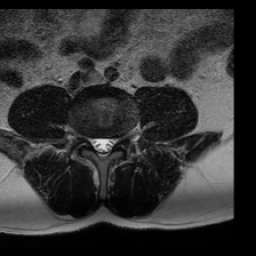CCS_normal: (99, 129, 104, 161)
LFS_stenosis: (112, 125, 121, 149)
LLS_normal: (104, 131, 112, 156)
RFS_stenosis: (83, 126, 92, 149)
RLS_normal: (92, 131, 99, 156)
